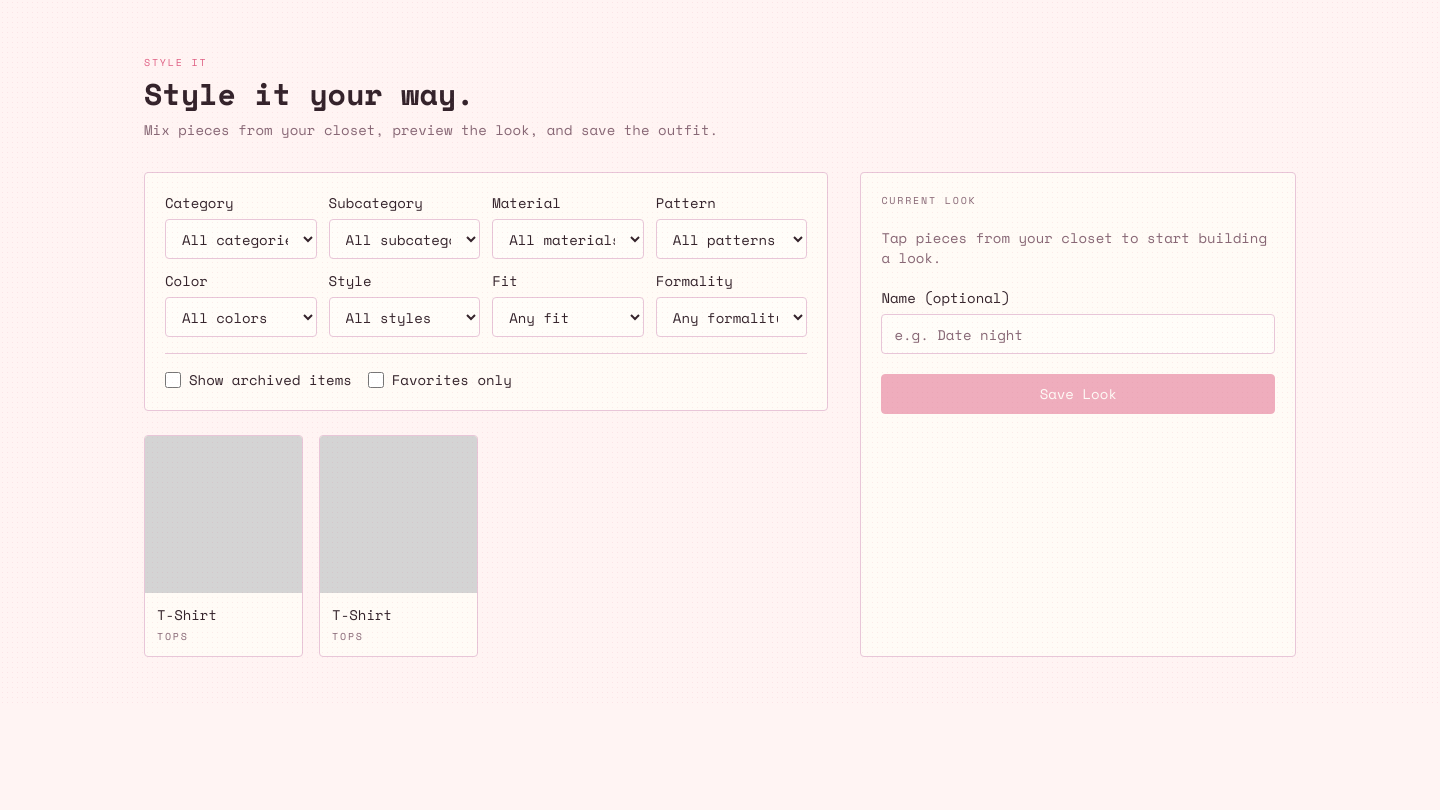
Scenario: StyleItPage › shows a toast and keeps the selection when saving fails
Click the 1st button "T-Shirt Tops".
click(224, 546)  # box x1=144 y1=435 x2=303 y2=657
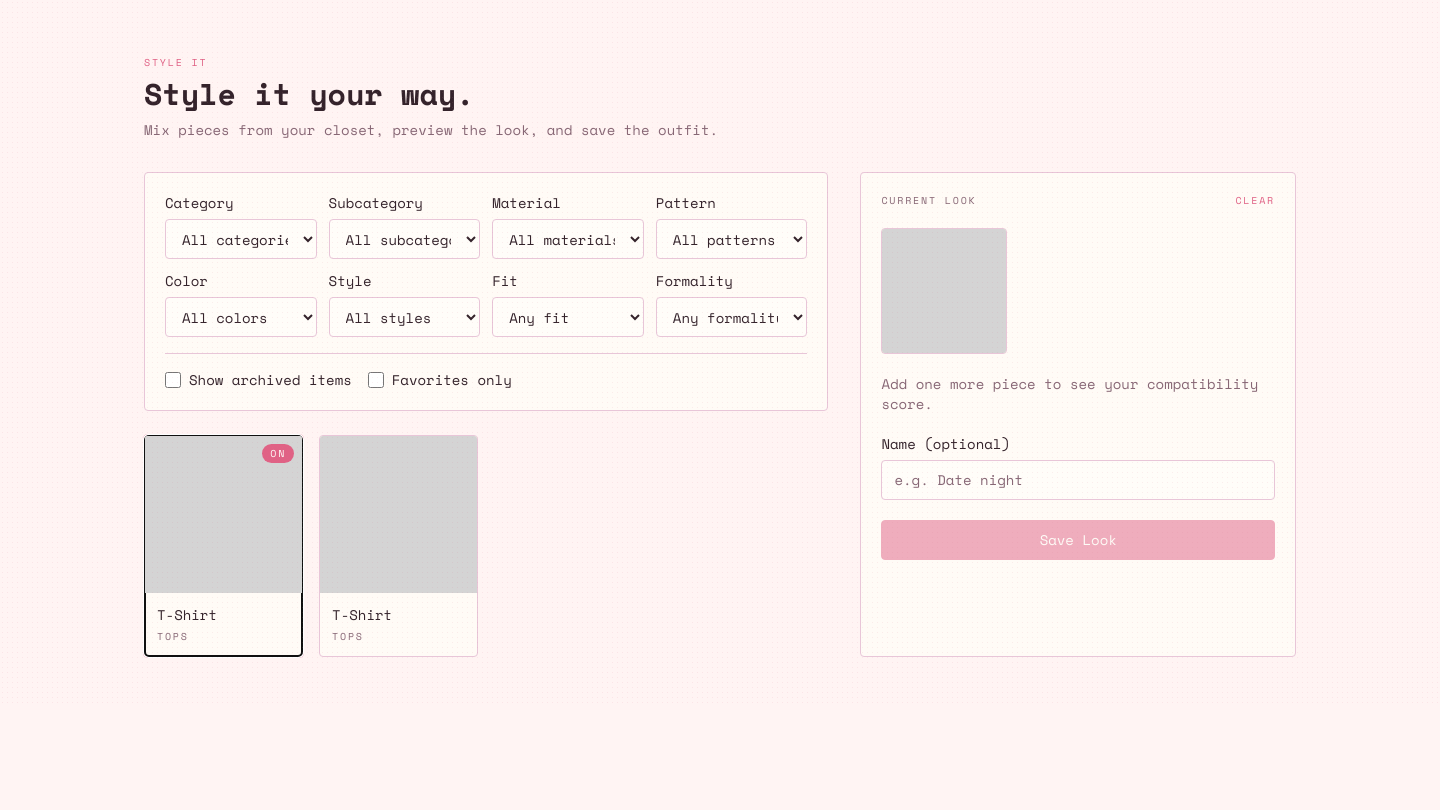
Click the button "T-Shirt Tops".
click(399, 546)  # box x1=319 y1=435 x2=478 y2=657
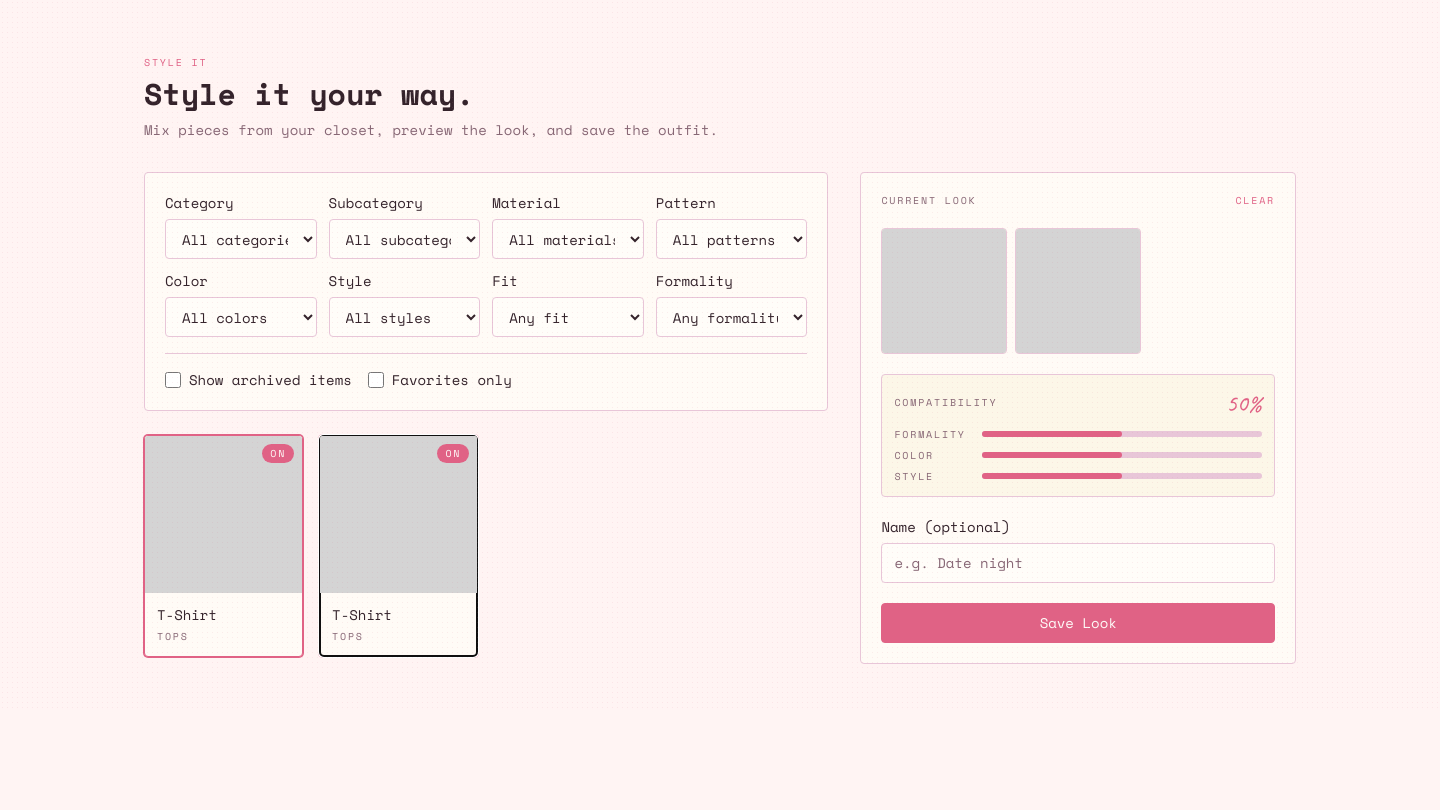
Expected: the button "Save Look" is enabled
Click the button "Save Look".
click(1078, 623)  # box x1=881 y1=603 x2=1275 y2=643
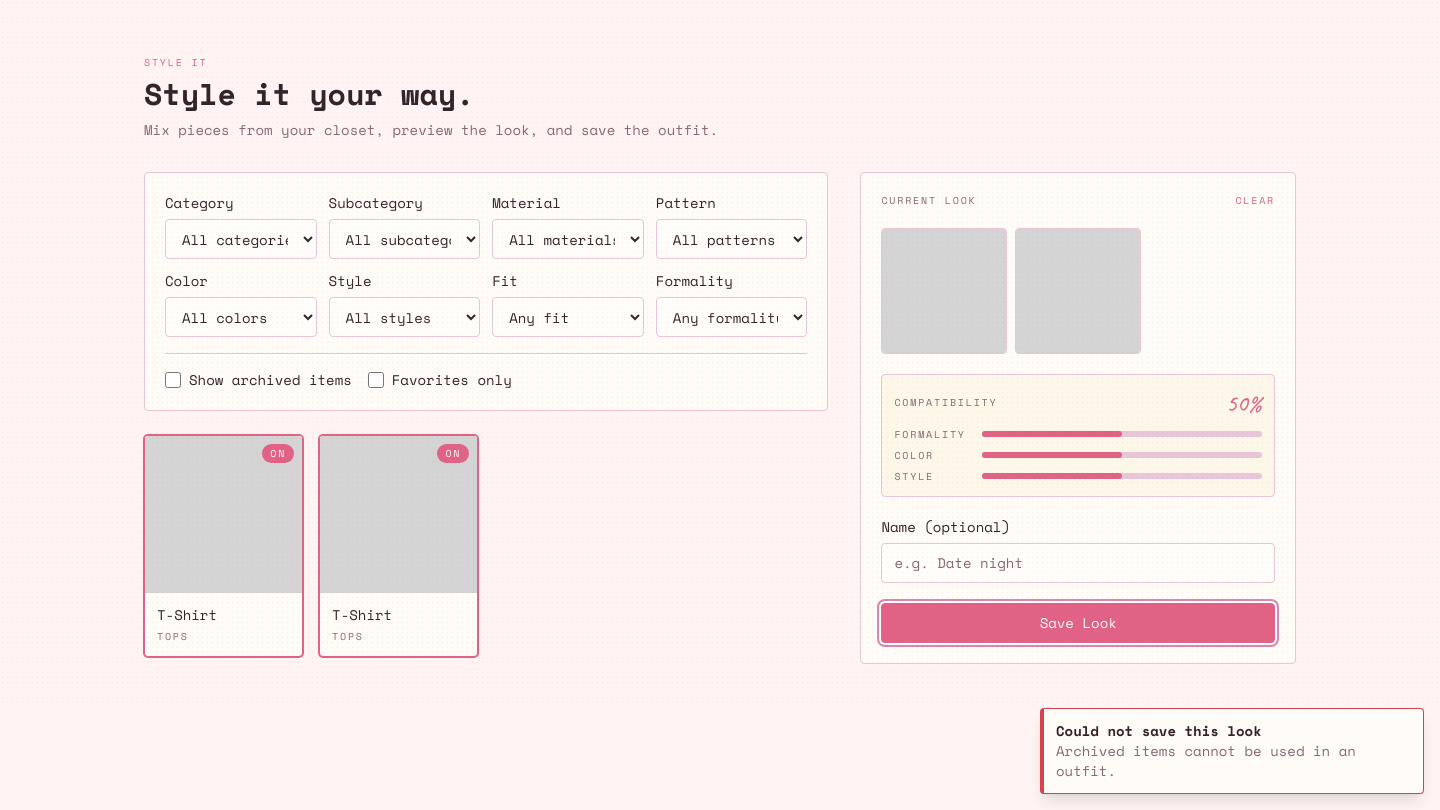
Expected: the text "Could not save this look" is shown, x1=1056 y1=720 x2=1262 y2=741
Expected: the text "Archived items cannot be used in an outfit." is shown, x1=1056 y1=740 x2=1356 y2=781
